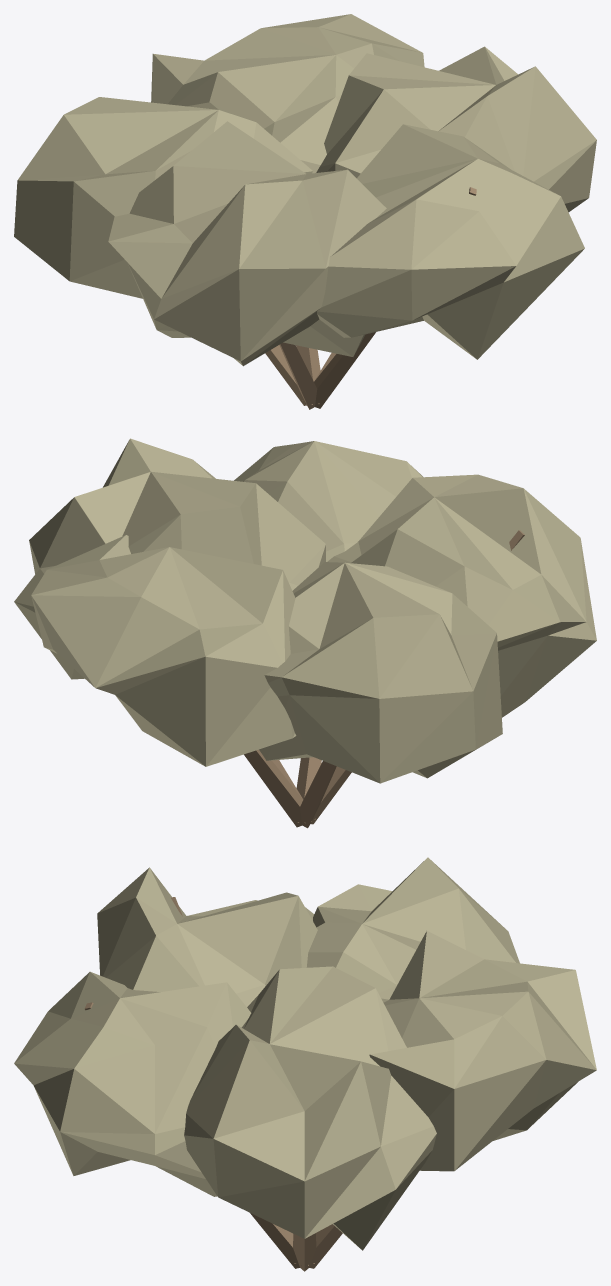
The picture shows the model from 3 angles, top to bottom: view 1: azimuth 30°, elevation 25°; view 2: azimuth 150°, elevation 25°; view 3: azimuth 270°, elevation 25°; orthographic projection. The views are drawn at different scales.
Size of the model in its own units: 1.75 by 1.04 by 1.67.
